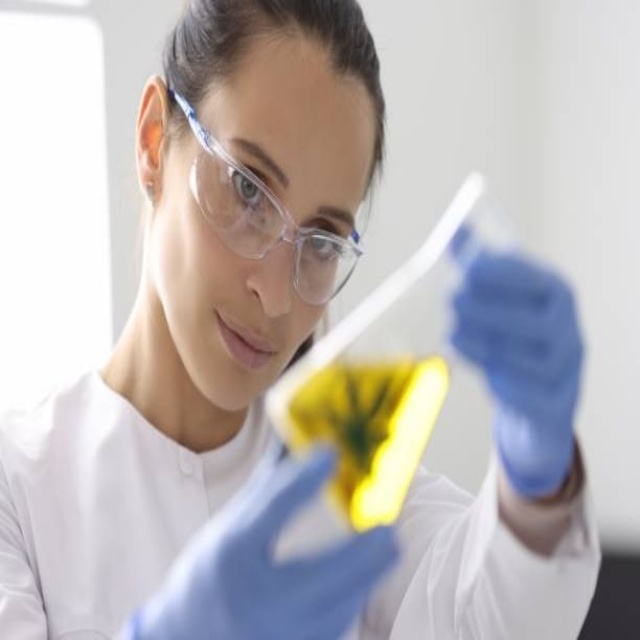Gafas: (172, 81, 368, 306)
Guantes: (117, 441, 403, 640), (444, 220, 586, 500)
Sin_mascara: (210, 301, 285, 400)
